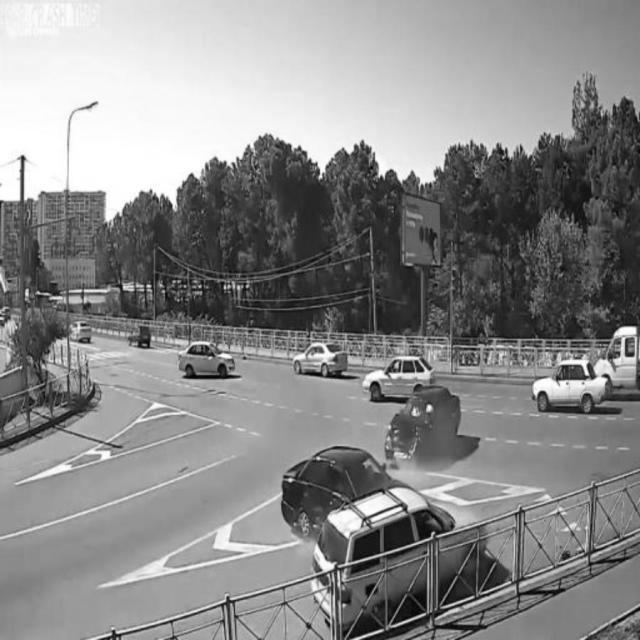vehicle: (313, 490, 491, 614), (281, 443, 369, 534), (387, 381, 464, 469), (531, 357, 609, 414), (362, 352, 435, 404), (601, 322, 640, 389), (177, 340, 235, 382), (291, 336, 351, 376), (124, 324, 154, 350), (68, 318, 94, 346)
